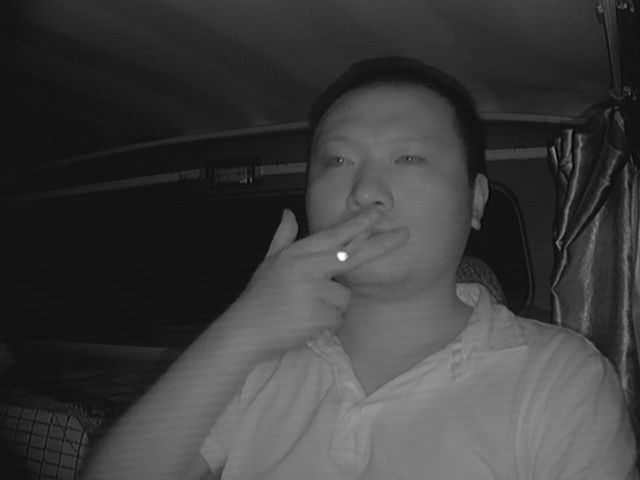hand: (299, 210, 408, 322)
